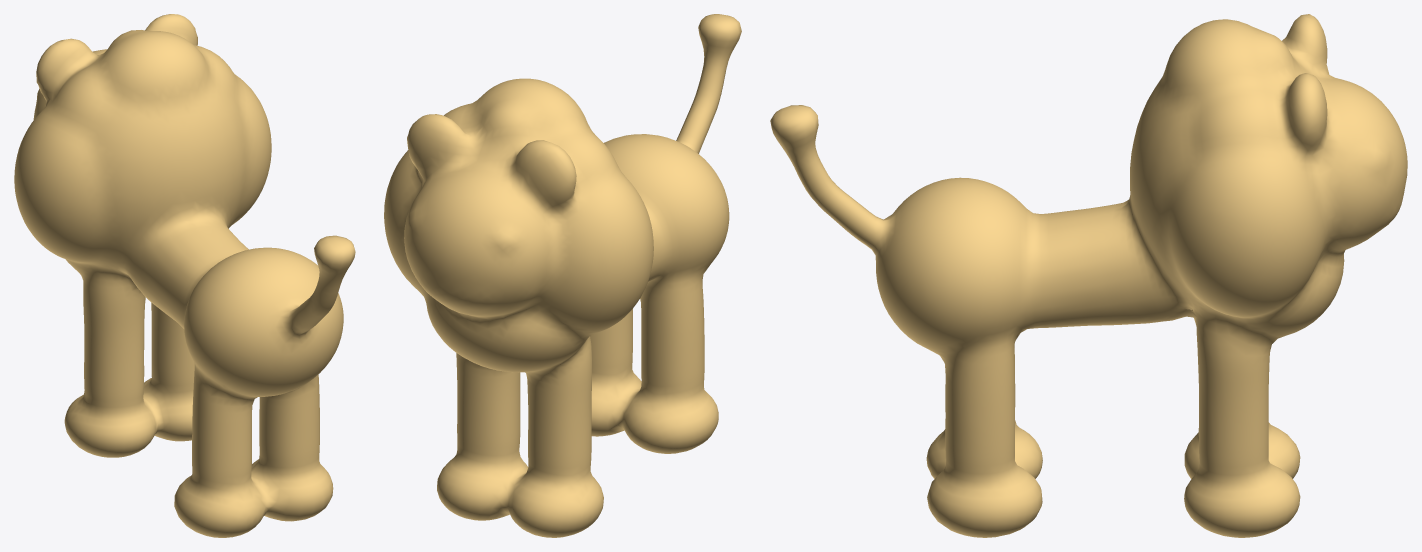
The model's file is lion_retopo.glb.
3 renders of one model, left to right at view 1: azimuth 30°, elevation 25°; view 2: azimuth 150°, elevation 25°; view 3: azimuth 270°, elevation 25°, orthographic. The views are drawn at different scales.
Parts seen in each view (by area): view 1: LionBody_Retopo; view 2: LionBody_Retopo; view 3: LionBody_Retopo.
Part boxes in pixels (x1,y1,x2,y2): LionBody_Retopo: (14,14,355,537); LionBody_Retopo: (384,14,741,537); LionBody_Retopo: (770,14,1407,537).
Bounding box in the file's own units: 0.6942 × 1.14 × 1.36.
